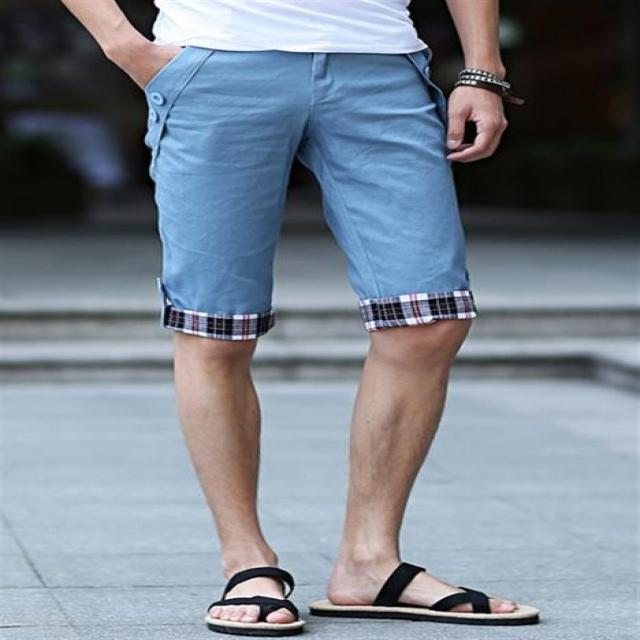shorts: (82, 28, 524, 360)
